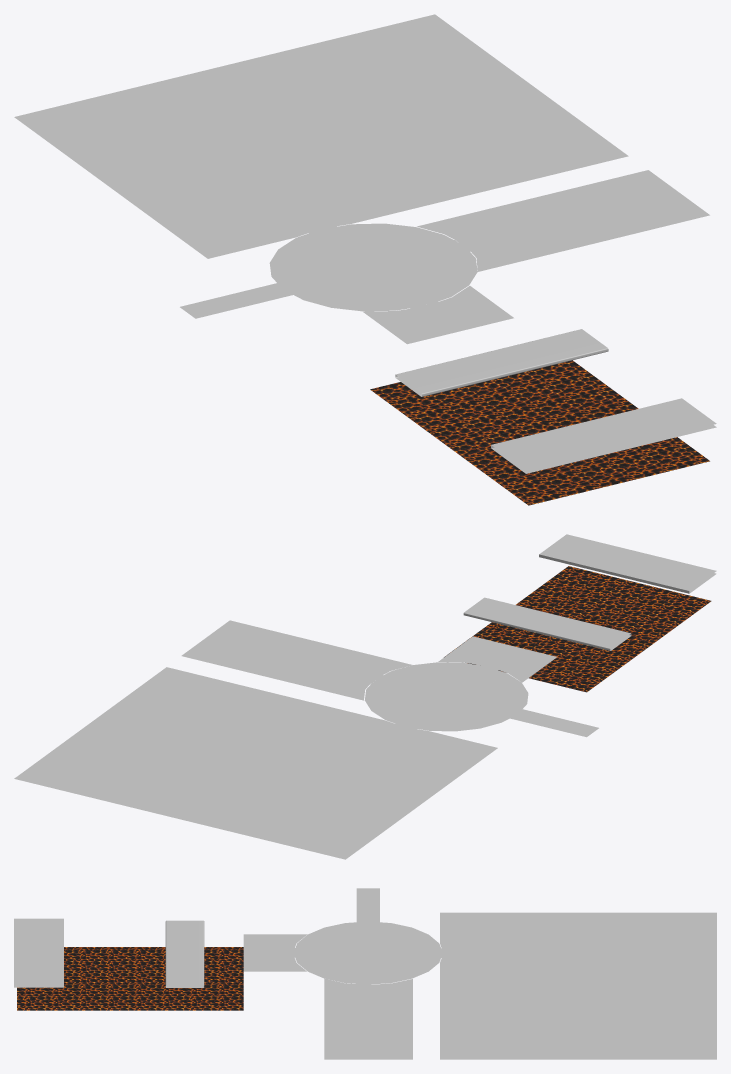
The model's file is Pavimento1.fbx.
The picture shows the model from 3 angles, top to bottom: view 1: azimuth 30°, elevation 25°; view 2: azimuth 150°, elevation 25°; view 3: azimuth 270°, elevation 25°; orthographic projection. The views are drawn at different scales.
Parts seen in each view (by area): view 1: Pavimento3, Lava1, Pausa; view 2: Pavimento3, Lava1, Pausa; view 3: Pavimento3, Lava1, Pausa.
Part boxes in pixels (x1,y1,x2,y2): Pavimento3: [14, 14, 716, 473]; Lava1: [370, 360, 709, 505]; Pausa: [395, 329, 608, 396]; Pavimento3: [14, 534, 716, 859]; Lava1: [444, 566, 711, 692]; Pausa: [463, 597, 631, 650]; Pavimento3: [14, 888, 716, 1059]; Lava1: [17, 947, 243, 1010]; Pausa: [165, 920, 204, 987].
Bounding box in the file's own units: 198 × 14.51 × 343.
